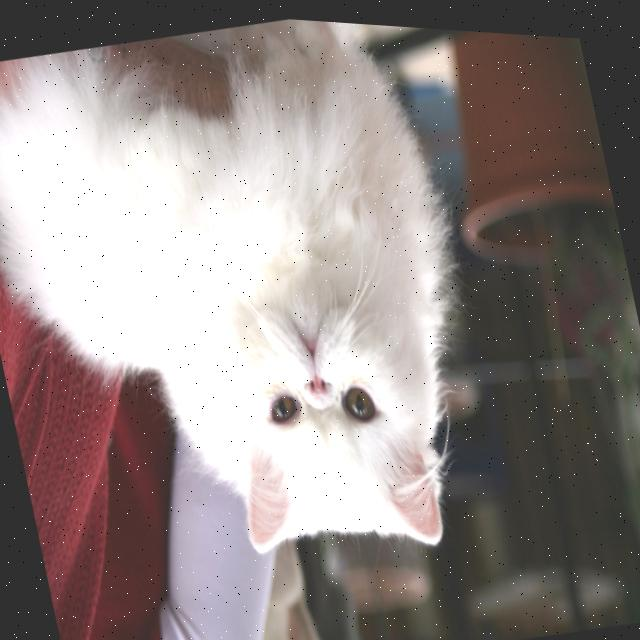Persian: (0, 0, 511, 626)
